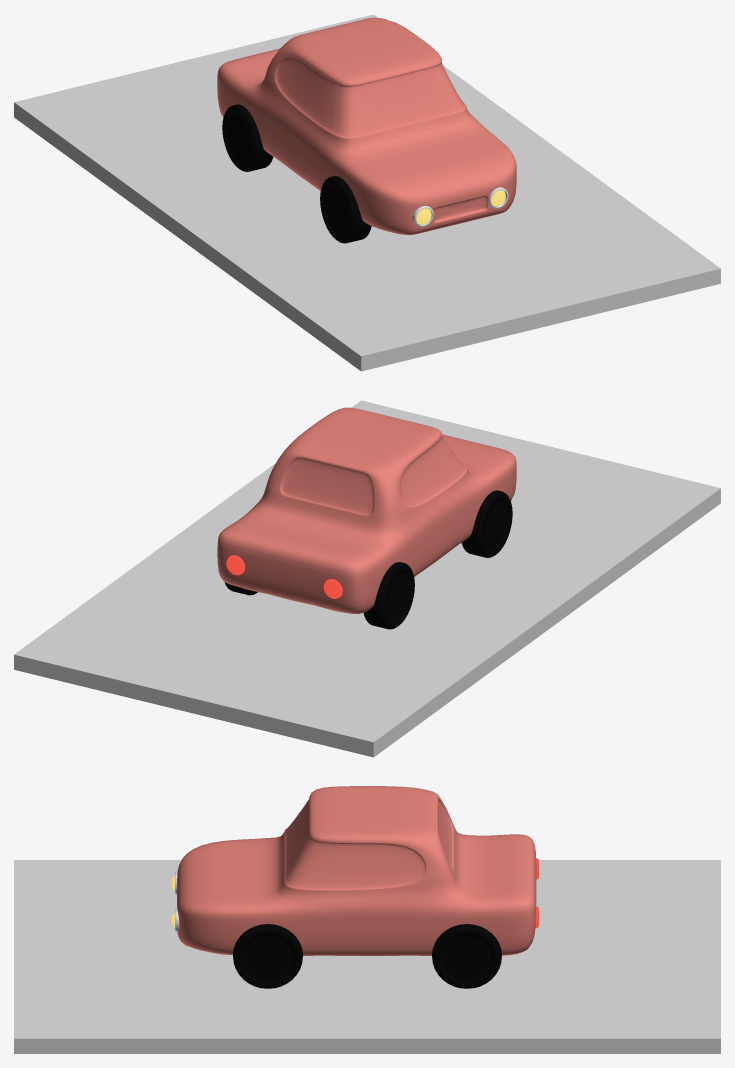
File: car(NoShadow).glb
The picture shows the model from 3 angles, top to bottom: view 1: azimuth 30°, elevation 25°; view 2: azimuth 150°, elevation 25°; view 3: azimuth 270°, elevation 25°; orthographic projection.
Parts seen in each view (by area): view 1: 立方体, Car, Tire; view 2: 立方体, Car, Tire, BackLight; view 3: 立方体, Car, Tire.
Boxes of the visible parts, <box> form: 立方体: <box>14,14,720,371</box>; Car: <box>217,17,516,234</box>; Tire: <box>222,104,371,243</box>; 立方体: <box>14,400,720,757</box>; Car: <box>217,407,516,613</box>; Tire: <box>224,490,512,629</box>; BackLight: <box>226,555,342,598</box>; 立方体: <box>14,860,720,1053</box>; Car: <box>177,786,536,955</box>; Tire: <box>233,924,501,988</box>.
Bounding box in the file's own units: 4.83 × 1.95 × 8.08.
